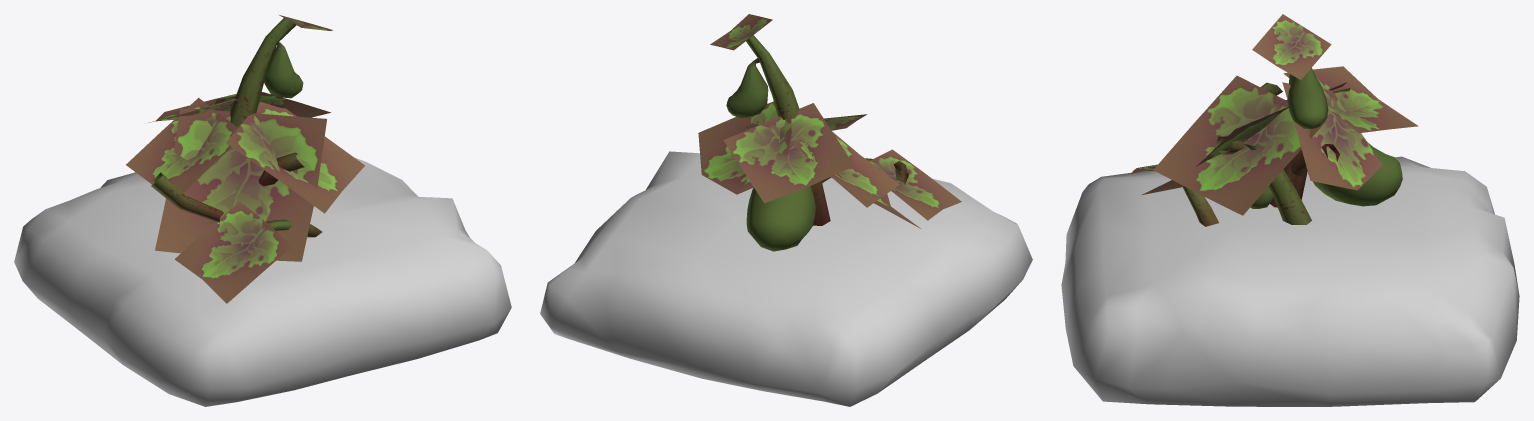
The model's file is hvs_plantables_eggplant_0.fbx.
3 views of the same model, side by side, from view 1: azimuth 30°, elevation 25°; view 2: azimuth 150°, elevation 25°; view 3: azimuth 270°, elevation 25° (orthographic). The views are drawn at different scales.
Visible parts, largest first — view 1: hvs_plantables_eggplant_0; view 2: hvs_plantables_eggplant_0; view 3: hvs_plantables_eggplant_0.
Part boxes in pixels (x1,y1,x2,y2): hvs_plantables_eggplant_0: (14, 14, 511, 406); hvs_plantables_eggplant_0: (540, 14, 1032, 406); hvs_plantables_eggplant_0: (1061, 14, 1519, 406).
Bounding box in the file's own units: 2.91 × 3.76 × 3.83.
